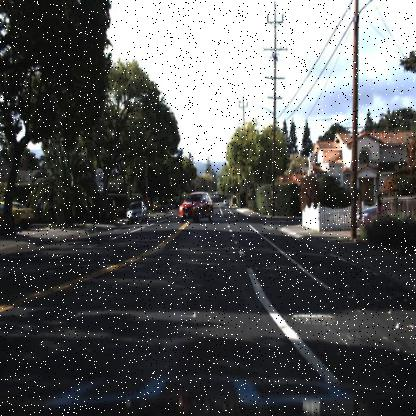car: (175, 190, 215, 224), (1, 198, 35, 232), (122, 194, 150, 226)
